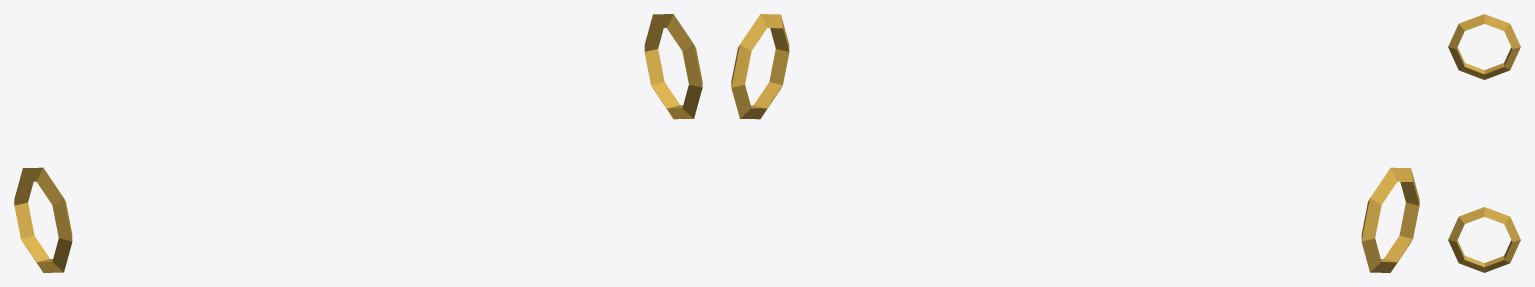
Rendered from acc-gold-hoops.glb.
3 views of the same model, side by side, from view 1: azimuth 30°, elevation 25°; view 2: azimuth 150°, elevation 25°; view 3: azimuth 270°, elevation 25° (orthographic). The views are drawn at different scales.
Visible parts, largest first — view 1: acc-gold-hoops-0; view 2: acc-gold-hoops-0; view 3: acc-gold-hoops-0.
Boxes of the visible parts, x1=… form: acc-gold-hoops-0: x1=14, y1=14, x2=702, y2=272; acc-gold-hoops-0: x1=731, y1=14, x2=1419, y2=272; acc-gold-hoops-0: x1=1448, y1=14, x2=1520, y2=272.
Size of the model in its own units: 1.06 by 0.166 by 0.166.
